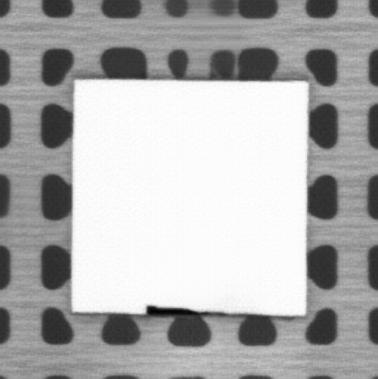DIE_BROKEN: (145, 303, 223, 317)
